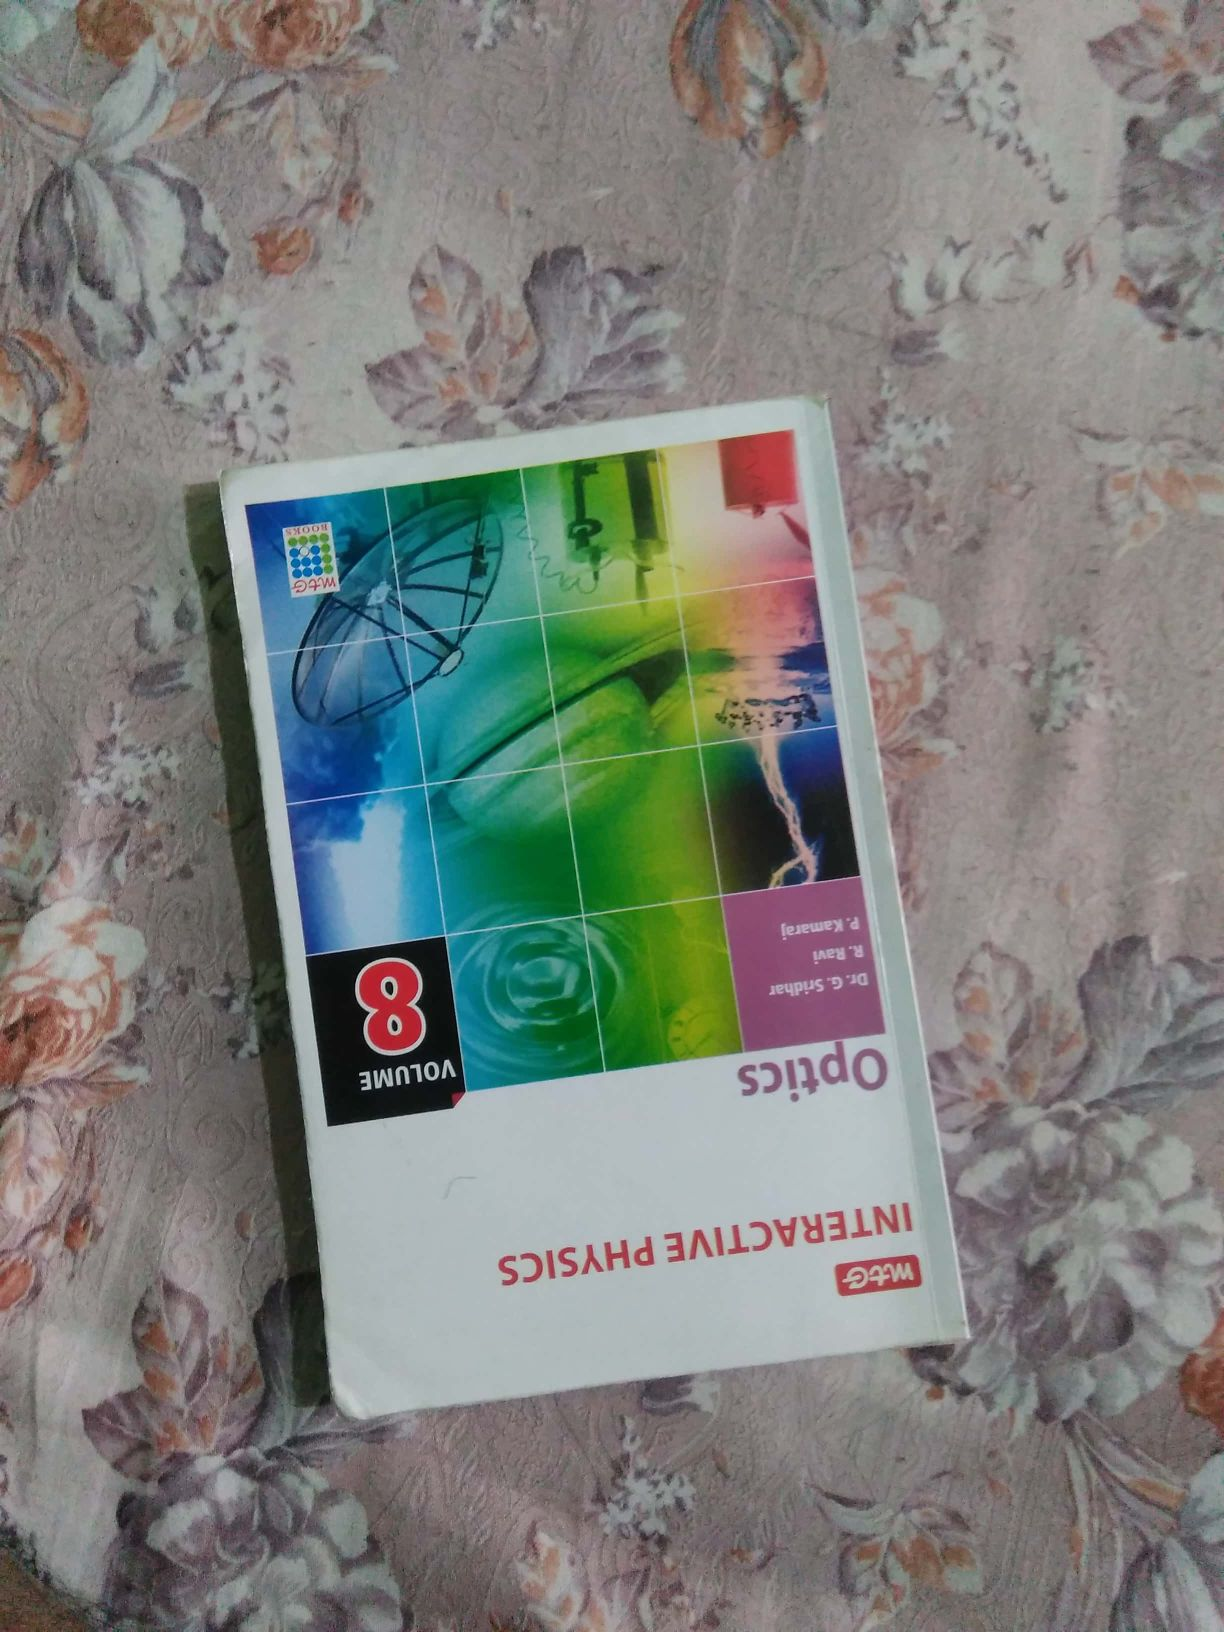optics: (147, 393, 1041, 1448)
